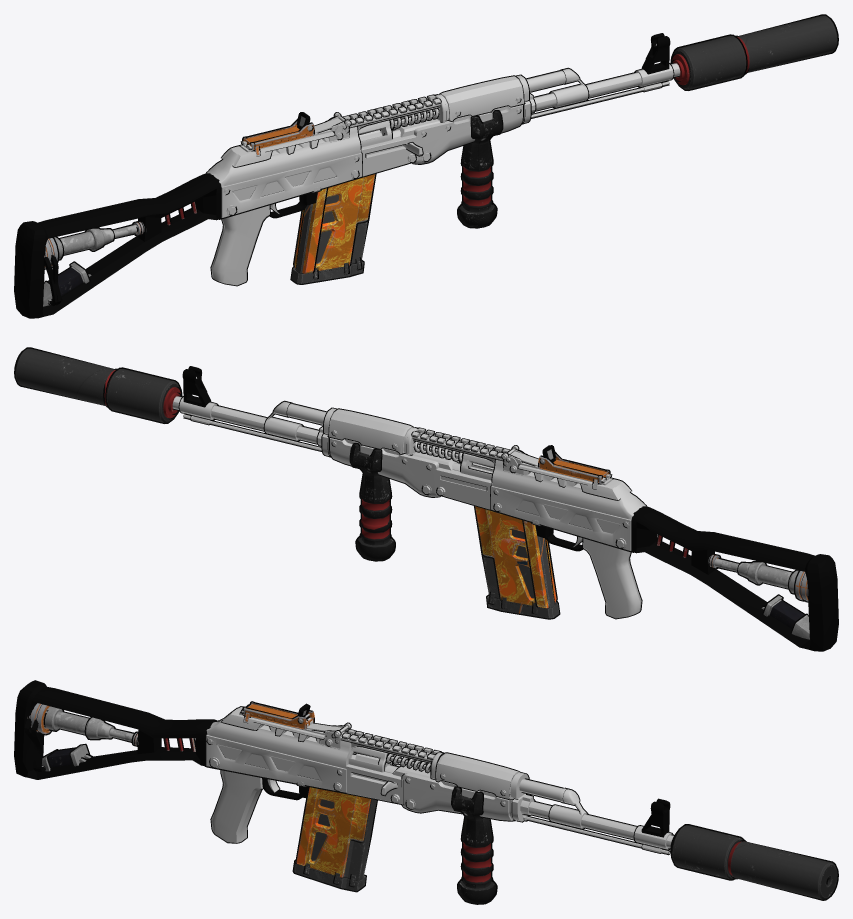
The picture shows the model from 3 angles, top to bottom: view 1: azimuth 30°, elevation 25°; view 2: azimuth 150°, elevation 25°; view 3: azimuth 330°, elevation 25°; orthographic projection.
Parts seen in each view (by area): view 1: Fusil_Cuerpo, Fusil_Accesorios, Fusil_Outline, Fusil_CuerpoOutline; view 2: Fusil_Cuerpo, Fusil_Accesorios, Fusil_Outline, Fusil_CuerpoOutline; view 3: Fusil_Cuerpo, Fusil_Accesorios, Fusil_Outline, Fusil_CuerpoOutline.
Boxes of the visible parts, x1=… form: Fusil_Cuerpo: x1=206, y1=44, x2=680, y2=285; Fusil_Accesorios: x1=43, y1=15, x2=837, y2=306; Fusil_Outline: x1=14, y1=14, x2=838, y2=318; Fusil_CuerpoOutline: x1=205, y1=33, x2=679, y2=286; Fusil_Cuerpo: x1=172, y1=377, x2=646, y2=618; Fusil_Accesorios: x1=15, y1=348, x2=809, y2=639; Fusil_Outline: x1=14, y1=347, x2=838, y2=651; Fusil_CuerpoOutline: x1=173, y1=366, x2=647, y2=619; Fusil_Cuerpo: x1=206, y1=707, x2=673, y2=853; Fusil_Accesorios: x1=27, y1=702, x2=837, y2=903; Fusil_Outline: x1=14, y1=680, x2=838, y2=904; Fusil_CuerpoOutline: x1=205, y1=704, x2=674, y2=855.
Size of the model in its own units: 657 by 132 by 46.42.
